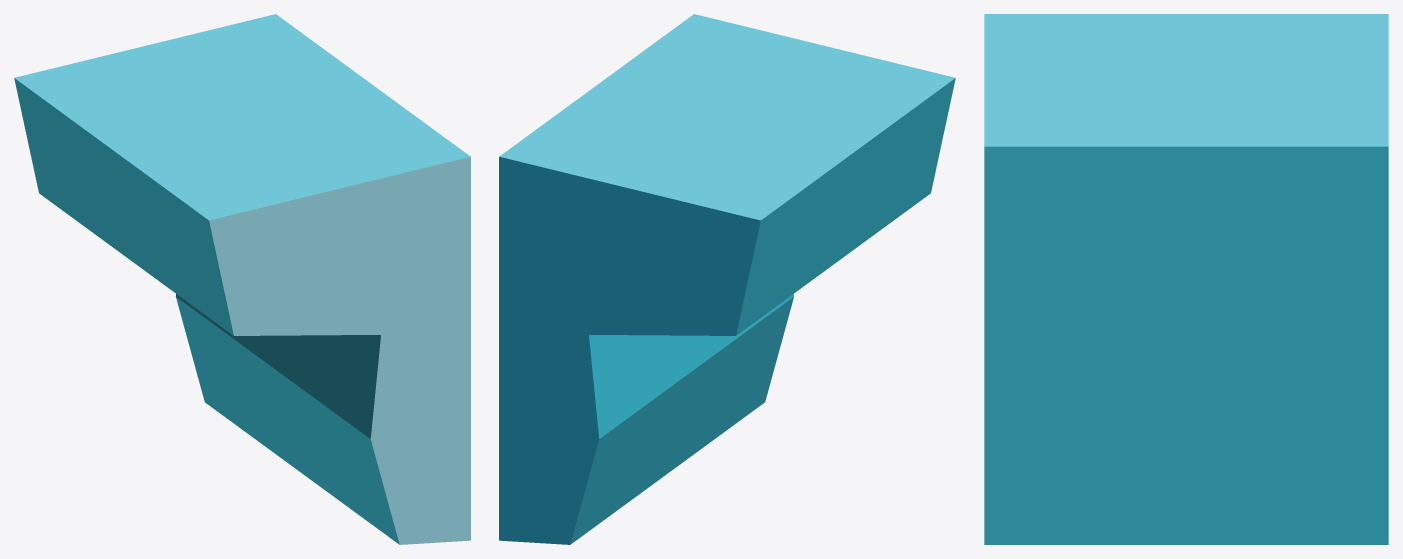
File: D_FBX_07_DesT_Wall_06.fbx
3 renders of one model, left to right at view 1: azimuth 30°, elevation 25°; view 2: azimuth 150°, elevation 25°; view 3: azimuth 270°, elevation 25°, orthographic. The views are drawn at different scales.
Parts seen in each view (by area): view 1: D_FBX_07_DesT_Wall_06; view 2: D_FBX_07_DesT_Wall_06; view 3: D_FBX_07_DesT_Wall_06.
Boxes of the visible parts, box(x1,y1,x2,y2) form: D_FBX_07_DesT_Wall_06: box(14, 14, 470, 544); D_FBX_07_DesT_Wall_06: box(499, 14, 955, 544); D_FBX_07_DesT_Wall_06: box(984, 14, 1388, 544).
Size of the model in its own units: 87.21 by 122 by 112.
